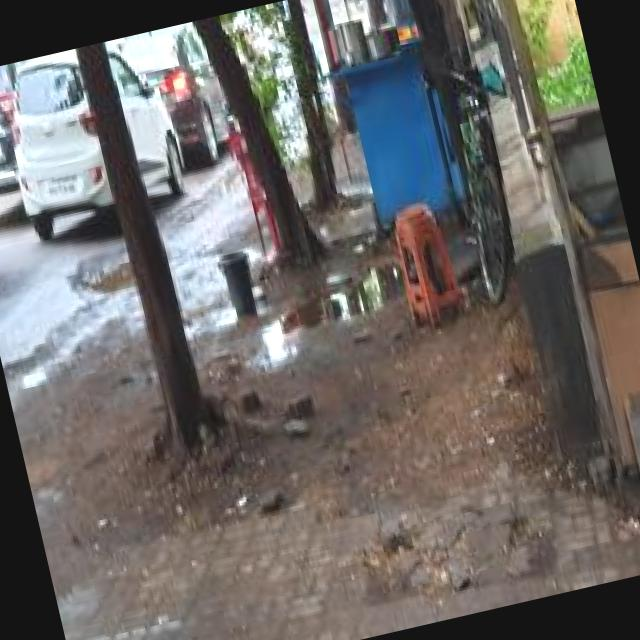waterlogging: (236, 246, 419, 373)
